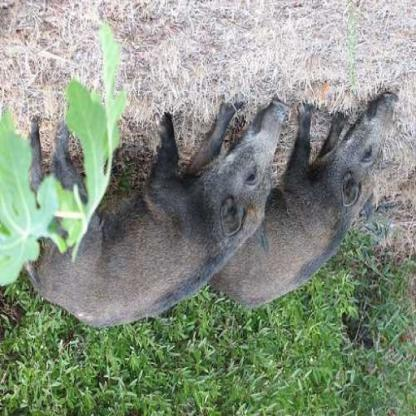boar: (16, 78, 291, 347), (193, 39, 415, 365)
